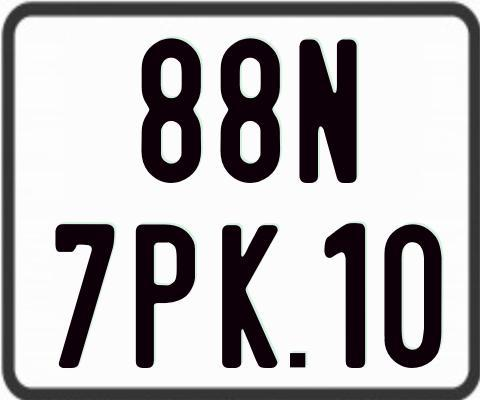0: (383, 221, 443, 370)
1: (323, 221, 367, 367)
7: (52, 222, 117, 367)
8: (139, 37, 205, 188), (217, 38, 278, 183)
K: (221, 224, 282, 373)
N: (297, 38, 356, 187)
P: (133, 221, 195, 368)
